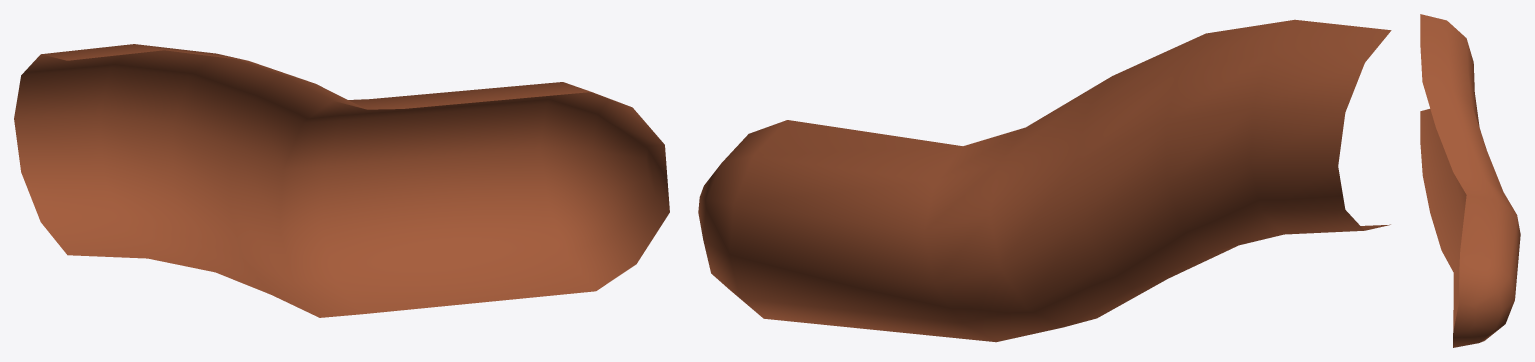
The model's file is SM_tileSol_EndSide_SoloDemi2.fbx.
3 renders of one model, left to right at view 1: azimuth 30°, elevation 25°; view 2: azimuth 150°, elevation 25°; view 3: azimuth 270°, elevation 25°, orthographic. The views are drawn at different scales.
Parts seen in each view (by area): view 1: SM_tileSol_EndSide_SoloDemi2; view 2: SM_tileSol_EndSide_SoloDemi2; view 3: SM_tileSol_EndSide_SoloDemi2.
Part boxes in pixels (left/top/right/bottom): SM_tileSol_EndSide_SoloDemi2: left=14, top=44, right=669, bottom=317; SM_tileSol_EndSide_SoloDemi2: left=698, top=19, right=1391, bottom=342; SM_tileSol_EndSide_SoloDemi2: left=1420, top=14, right=1520, bottom=347.
Bounding box in the file's own units: 34.33 × 20.19 × 9.38.
